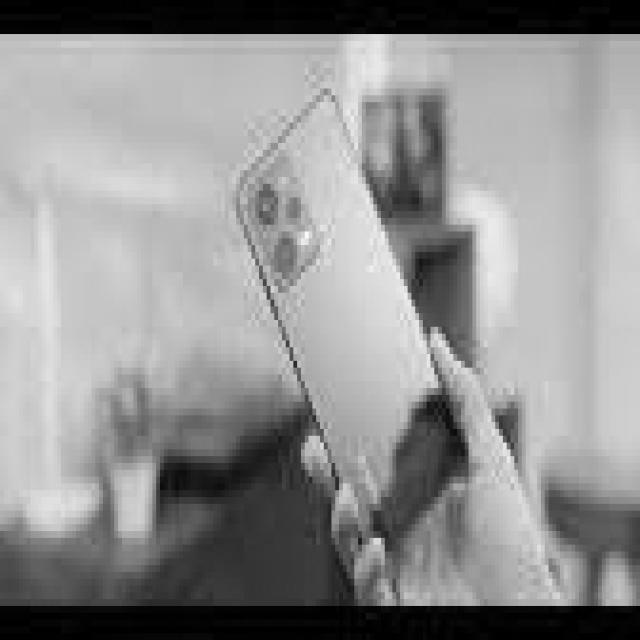No gun_phone: (237, 94, 469, 558)
